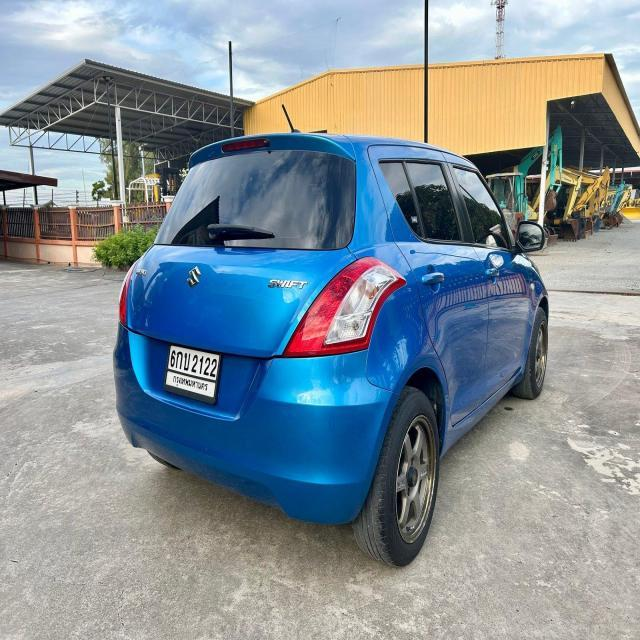Hatchback: (112, 131, 549, 565)
